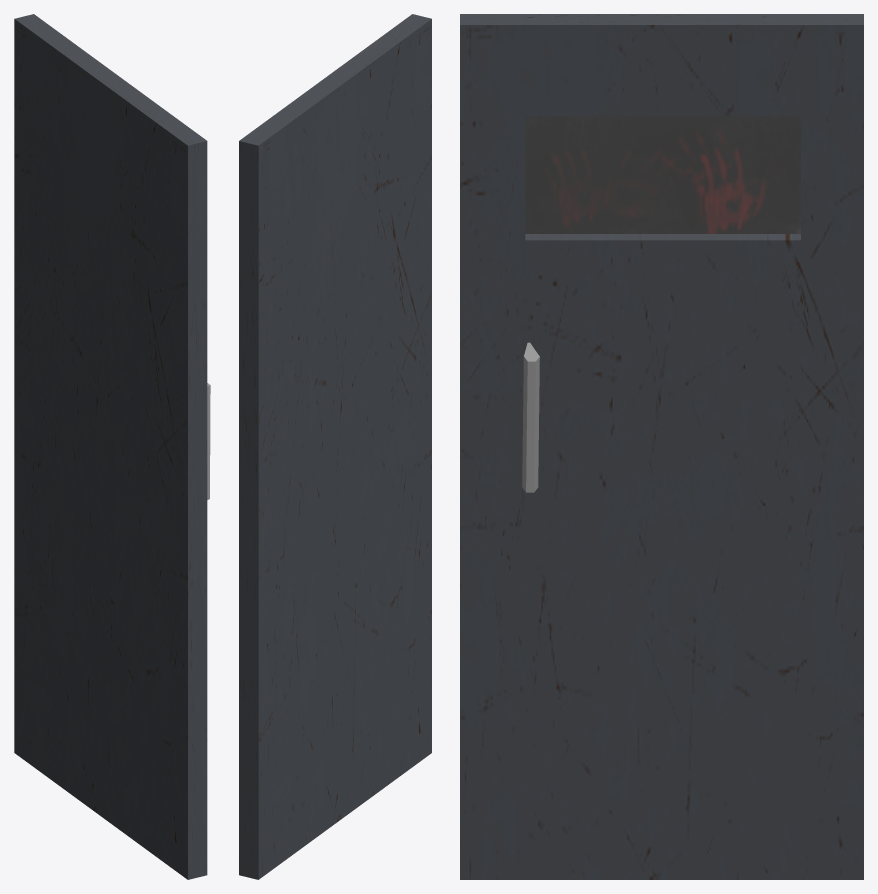
File: Door_.fbx
3 views of the same model, side by side, from view 1: azimuth 30°, elevation 25°; view 2: azimuth 150°, elevation 25°; view 3: azimuth 270°, elevation 25° (orthographic). The views are drawn at different scales.
Parts seen in each view (by area): view 1: pCube26; view 2: pCube26; view 3: pCube26.
Boxes of the visible parts, box(x1,y1,x2,y2) form: pCube26: box(14, 14, 210, 879); pCube26: box(239, 14, 431, 879); pCube26: box(460, 14, 863, 879).
Size of the model in its own units: 0.5621 by 7.62 by 3.26.
3 materials, 2 textured.
